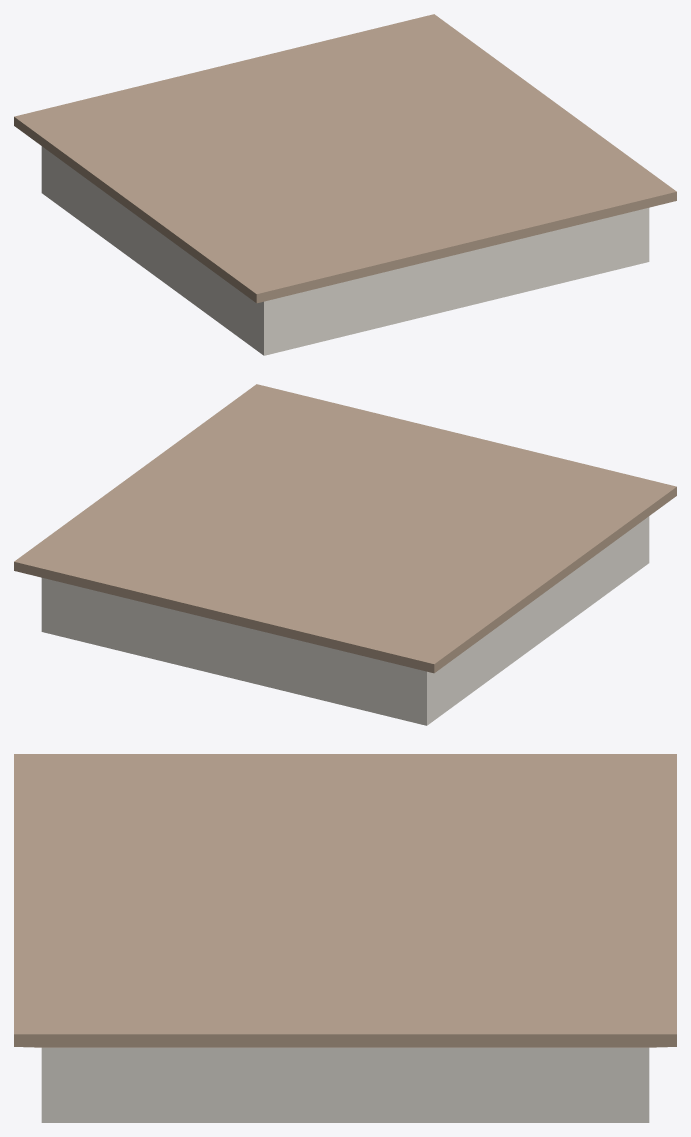
File: Structure_Balcony_4_Edges.glb
The picture shows the model from 3 angles, top to bottom: view 1: azimuth 30°, elevation 25°; view 2: azimuth 150°, elevation 25°; view 3: azimuth 270°, elevation 25°; orthographic projection. The views are drawn at different scales.
Parts seen in each view (by area): view 1: Structure_Balcony_4_Edges; view 2: Structure_Balcony_4_Edges; view 3: Structure_Balcony_4_Edges.
Part boxes in pixels (box(x1,y1,x2,y2)): Structure_Balcony_4_Edges: box(14, 14, 676, 355); Structure_Balcony_4_Edges: box(14, 384, 676, 725); Structure_Balcony_4_Edges: box(14, 754, 676, 1122).
Size of the model in its own units: 0.54 by 0.09 by 0.54.
